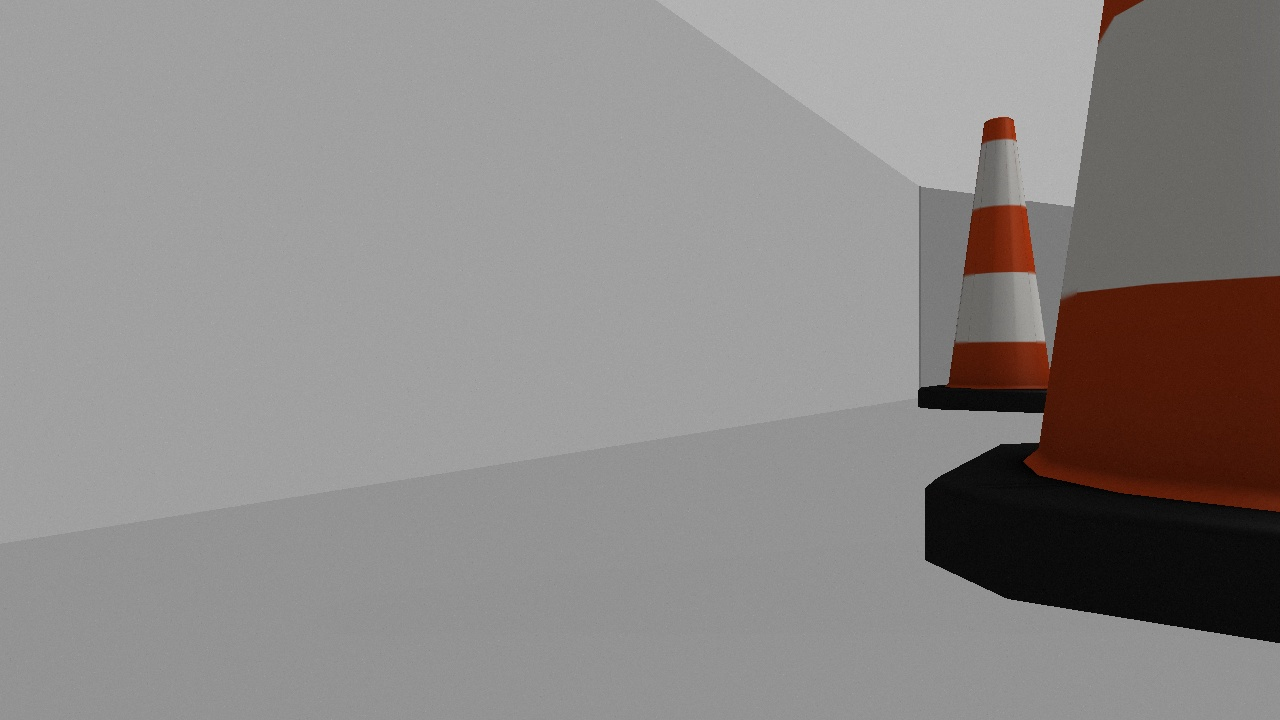barricade: (924, 1, 1280, 644), (915, 113, 1077, 415)
